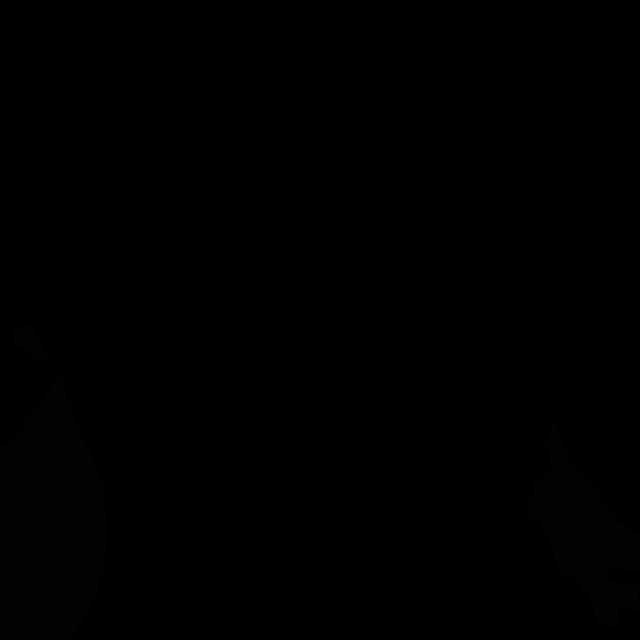cardboard: (0, 372, 108, 640), (526, 423, 640, 628), (12, 325, 50, 361)
rigid_plastic: (545, 343, 640, 531)
